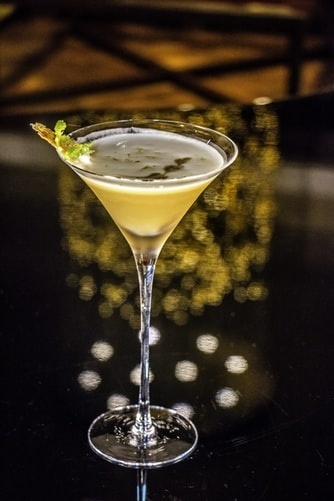whiskey: (55, 113, 224, 446)
